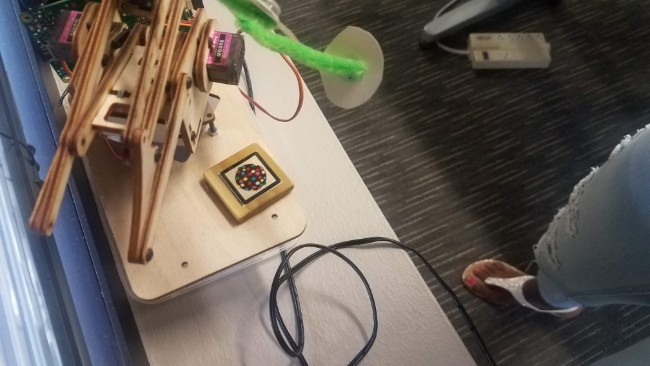cookie: (208, 148, 284, 208)
